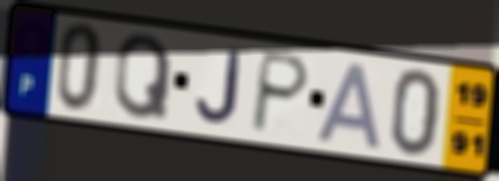0: (387, 66, 445, 159), (57, 22, 109, 117)
A: (314, 60, 386, 152)
J: (193, 47, 244, 127)
P: (247, 49, 313, 136)
Q: (113, 31, 175, 122)
